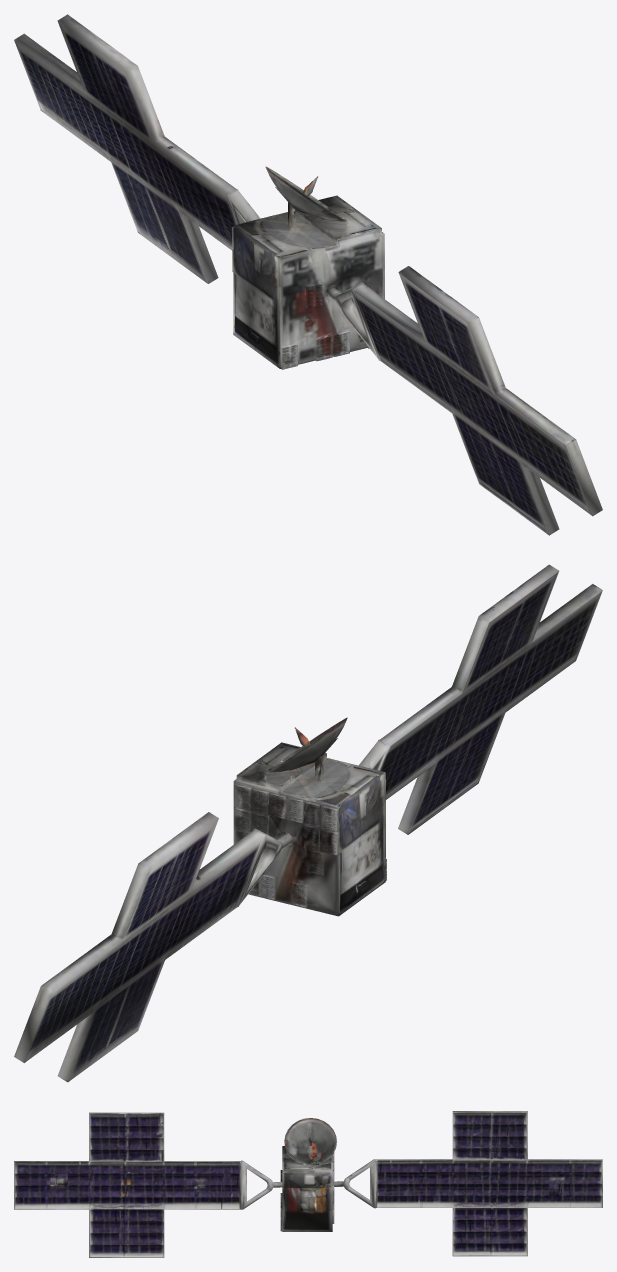
Rendered from psyche-spacecraft.glb.
The picture shows the model from 3 angles, top to bottom: view 1: azimuth 30°, elevation 25°; view 2: azimuth 150°, elevation 25°; view 3: azimuth 270°, elevation 25°; orthographic projection. The views are drawn at different scales.
Size of the model in its own units: 0.2351 by 0.4768 by 2.
1 material, 1 textured.
